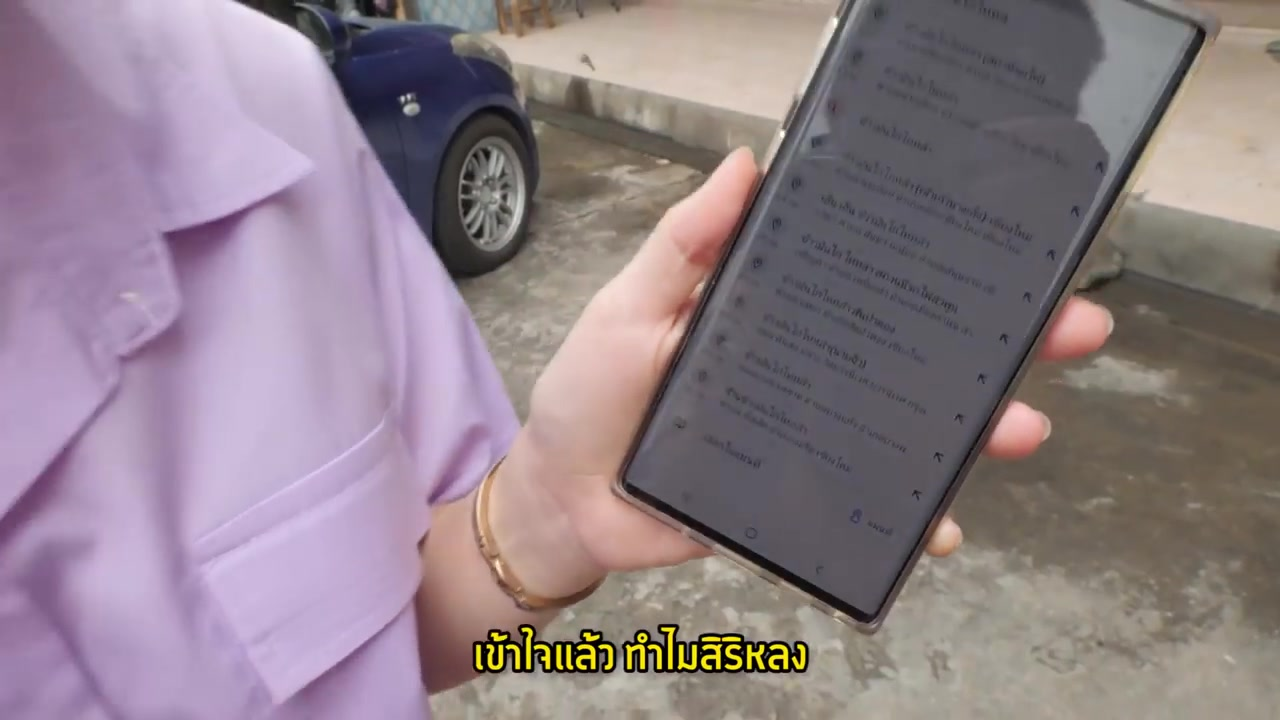text-label: (468, 618, 812, 678)
